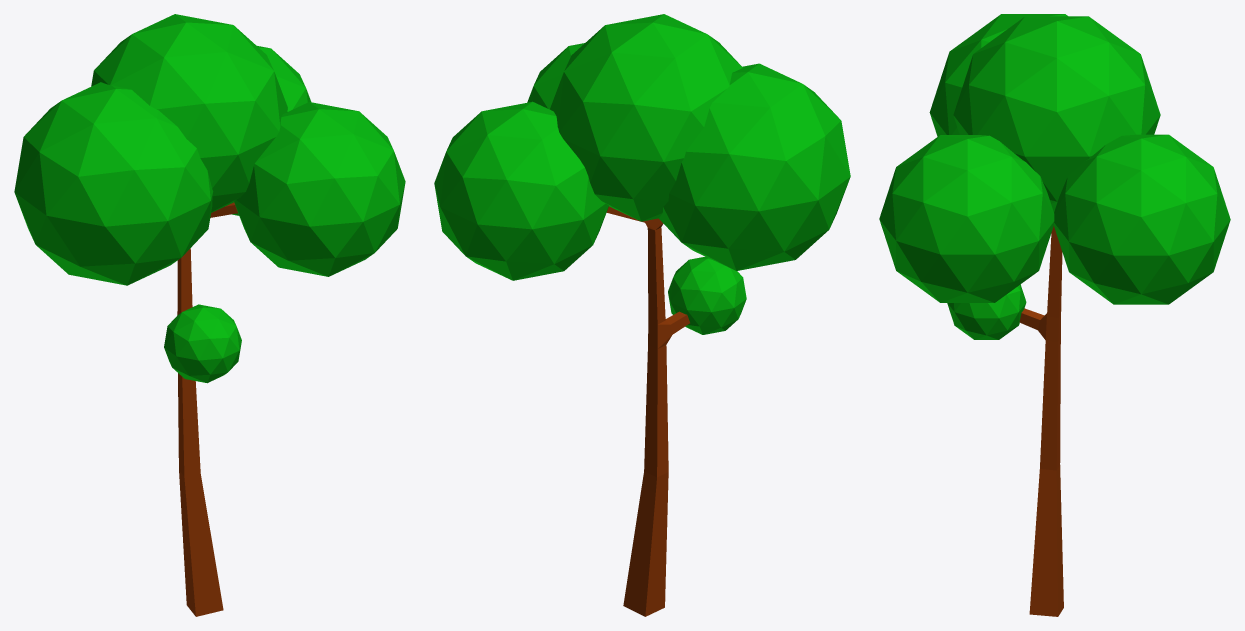
File: TallTree.fbx
The picture shows the model from 3 angles, left to right: view 1: azimuth 30°, elevation 25°; view 2: azimuth 150°, elevation 25°; view 3: azimuth 270°, elevation 25°; orthographic projection.
Visible parts, largest first — view 1: Icosphere.002, Icosphere, Icosphere.003, Cube, Icosphere.004, Icosphere.001; view 2: Icosphere.002, Icosphere.003, Icosphere.001, Cube, Icosphere.004, Icosphere; view 3: Icosphere.003, Icosphere.001, Icosphere, Cube, Icosphere.002, Icosphere.004.
Part boxes in pixels (x1,y1,x2,y2): Icosphere.002: (14, 82, 213, 285); Icosphere: (234, 102, 405, 276); Icosphere.003: (91, 14, 287, 212); Cube: (177, 202, 237, 616); Icosphere.004: (164, 304, 241, 383); Icosphere.001: (232, 46, 311, 215); Icosphere.002: (659, 63, 850, 270); Icosphere.003: (550, 14, 742, 221); Icosphere.001: (434, 101, 608, 280); Cube: (606, 206, 689, 616); Icosphere.004: (668, 256, 746, 334); Icosphere: (527, 43, 584, 109); Icosphere.003: (953, 16, 1160, 212); Icosphere.001: (1054, 134, 1230, 304); Icosphere: (879, 135, 1054, 302); Cube: (1019, 226, 1063, 616); Icosphere.002: (929, 14, 1067, 136); Icosphere.004: (947, 284, 1026, 339).
Size of the model in its own units: 1481 by 2526 by 1376.
